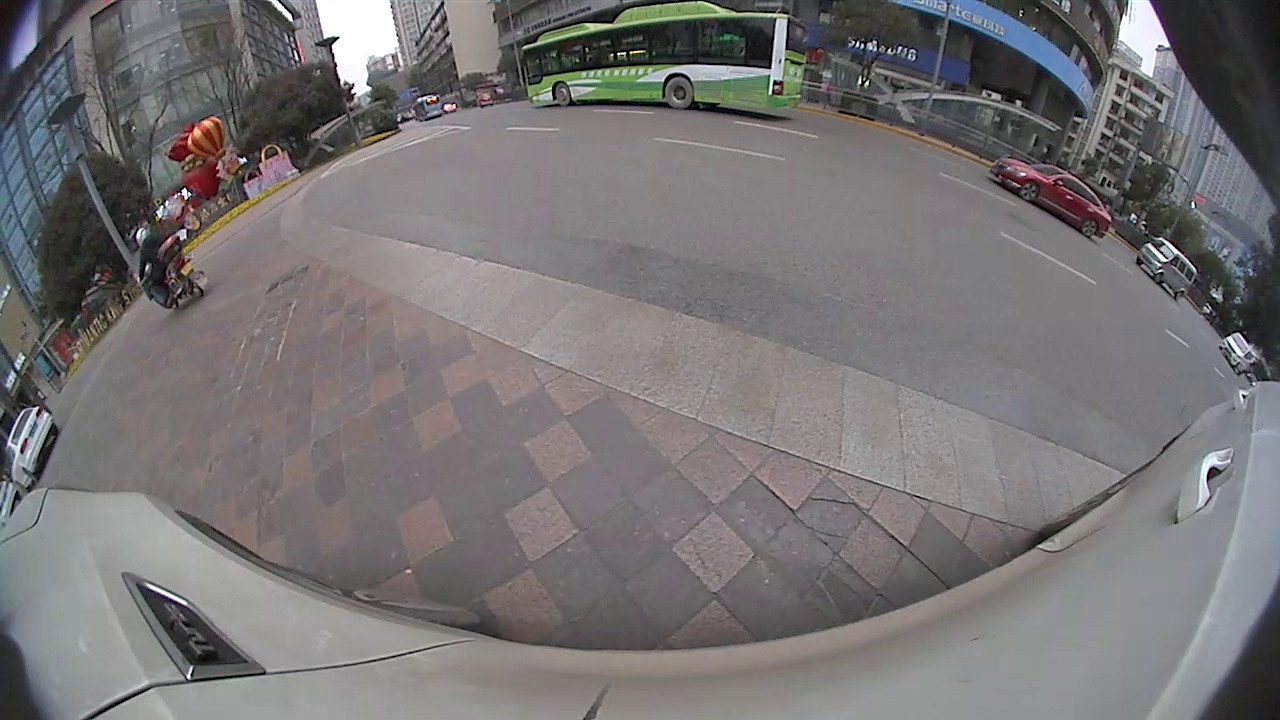bus: (519, 3, 796, 117)
car: (991, 158, 1112, 238), (7, 403, 60, 493), (1135, 236, 1196, 301), (1221, 334, 1254, 374)
front: (1016, 180, 1041, 203), (552, 83, 569, 108), (1150, 269, 1167, 286)
rear: (664, 76, 693, 112), (1077, 217, 1102, 239), (1171, 286, 1187, 305)
rider: (136, 228, 204, 318)
